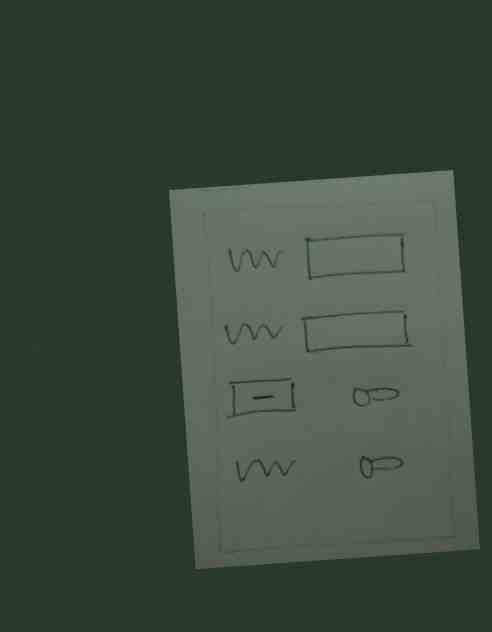button: (220, 372, 303, 425)
switch: (352, 446, 408, 486), (346, 378, 404, 413)
text: (218, 239, 290, 282), (231, 448, 299, 486), (219, 316, 285, 352)
text_input: (299, 225, 411, 288), (297, 305, 418, 360)
